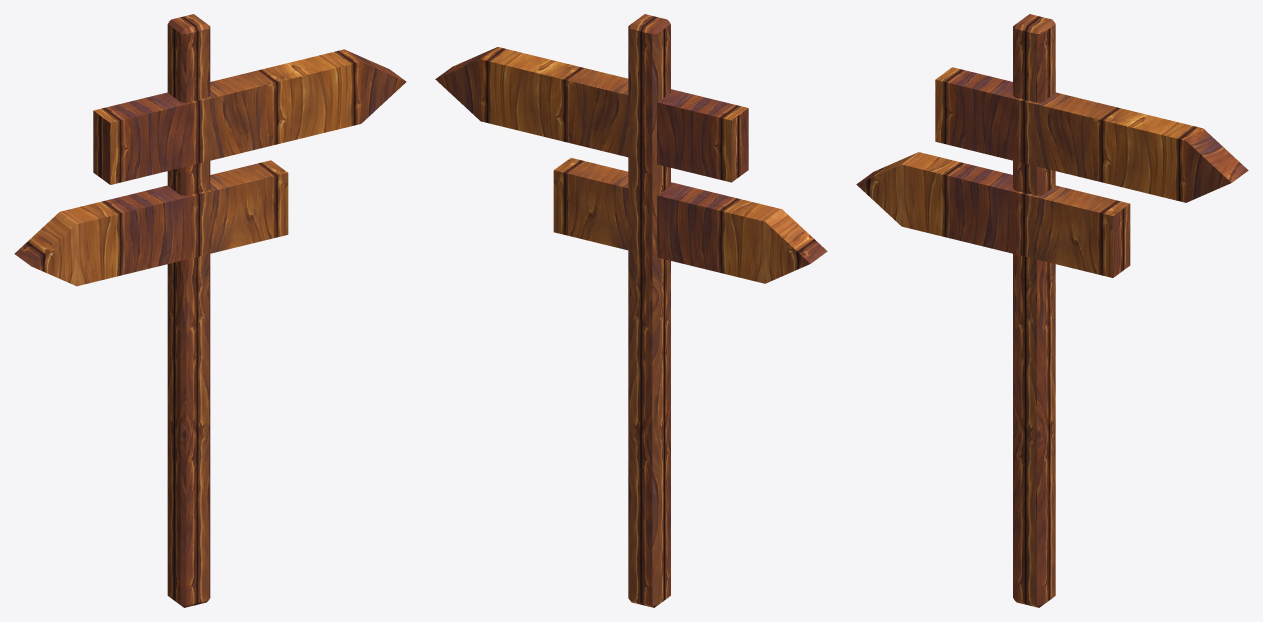
File: Signpost.fbx
3 views of the same model, side by side, from view 1: azimuth 30°, elevation 25°; view 2: azimuth 150°, elevation 25°; view 3: azimuth 330°, elevation 25° (orthographic).
Parts seen in each view (by area): view 1: Signpost.001; view 2: Signpost.001; view 3: Signpost.001.
Boxes of the visible parts, x1,y1,x2,y2 form: Signpost.001: [14, 14, 406, 607]; Signpost.001: [435, 14, 827, 607]; Signpost.001: [856, 14, 1248, 607].
Size of the model in its own units: 190 by 280 by 16.5.
1 material, 1 textured.
